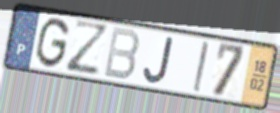7: (213, 40, 249, 100)
B: (101, 25, 141, 83)
G: (33, 16, 71, 71)
I: (191, 39, 210, 95)
J: (142, 35, 176, 86)
Z: (63, 17, 112, 77)
